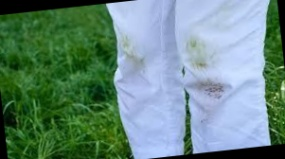earth: (122, 35, 144, 70), (187, 40, 211, 69), (202, 81, 226, 101)
